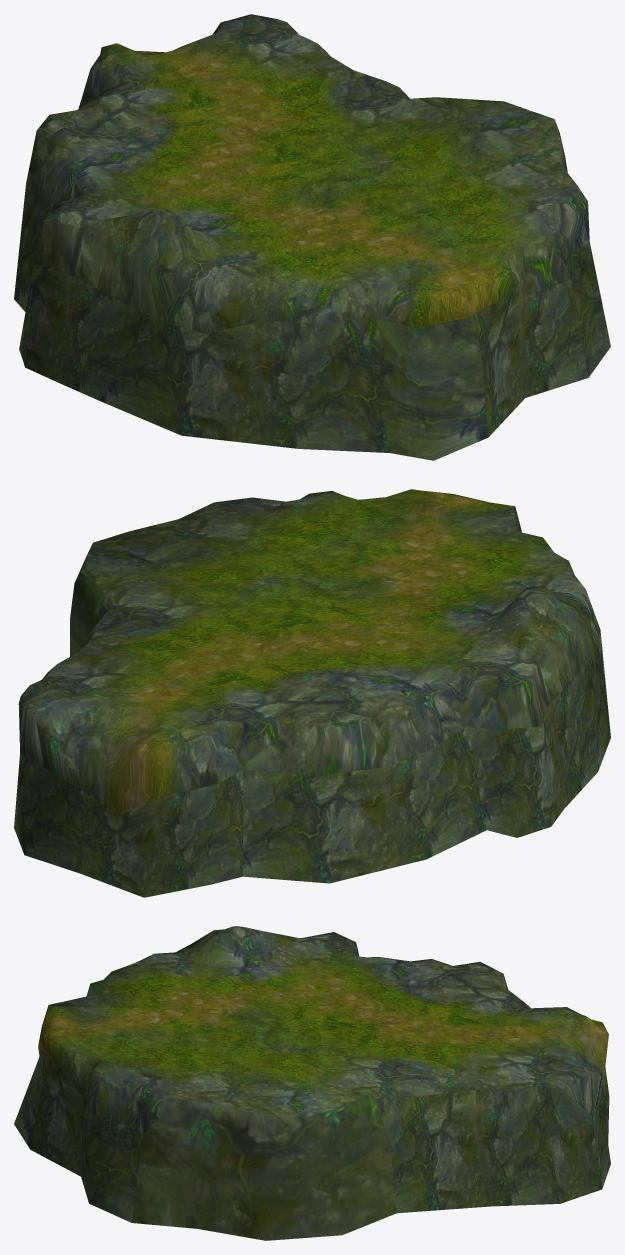
The model's file is 10204_ground01.FBX.
The picture shows the model from 3 angles, top to bottom: view 1: azimuth 30°, elevation 25°; view 2: azimuth 150°, elevation 25°; view 3: azimuth 270°, elevation 25°; orthographic projection. The views are drawn at different scales.
Parts seen in each view (by area): view 1: 10204_ground01; view 2: 10204_ground01; view 3: 10204_ground01.
Boxes of the visible parts, left/top/right/bottom form: 10204_ground01: left=14, top=14, right=610, bottom=460; 10204_ground01: left=14, top=489, right=610, bottom=897; 10204_ground01: left=14, top=926, right=610, bottom=1240.
Size of the model in its own units: 1213 by 435 by 1527.
